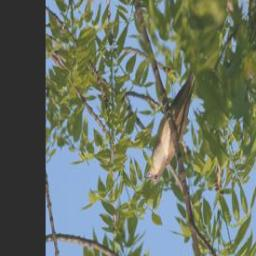Cuckoo: (146, 67, 198, 183)
